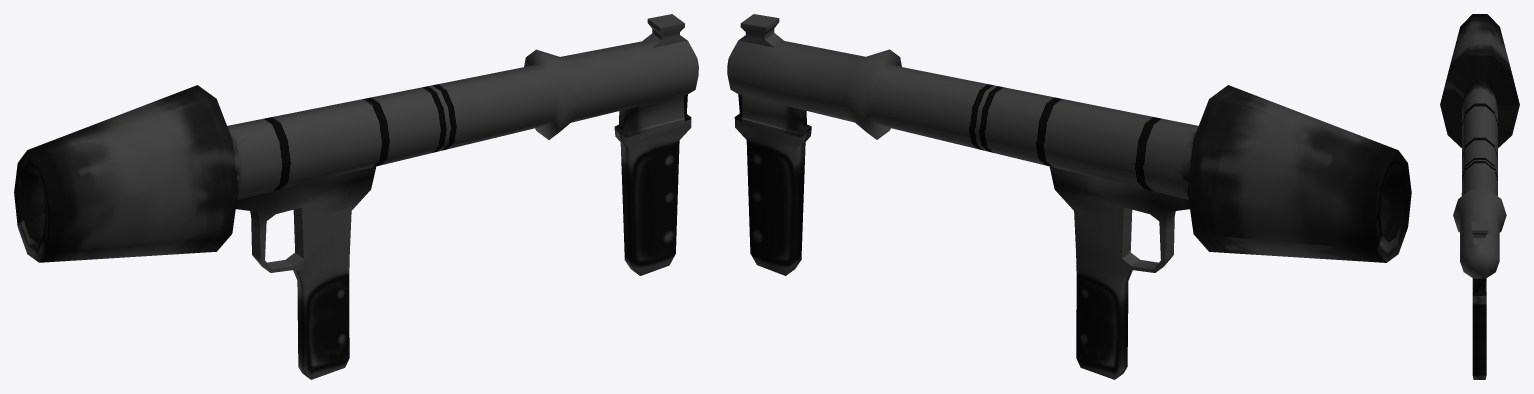
Rendered from flameThrower.fbx.
The picture shows the model from 3 angles, left to right: view 1: azimuth 30°, elevation 25°; view 2: azimuth 150°, elevation 25°; view 3: azimuth 270°, elevation 25°; orthographic projection. The views are drawn at different scales.
Visible parts, largest first — view 1: flamethrower; view 2: flamethrower; view 3: flamethrower.
Boxes of the visible parts, <box> form: flamethrower: <box>14,14,698,379</box>; flamethrower: <box>727,14,1411,379</box>; flamethrower: <box>1440,14,1519,379</box>.
Bounding box in the file's own units: 3.92 × 1.76 × 0.6416.
1 material, 1 textured.
